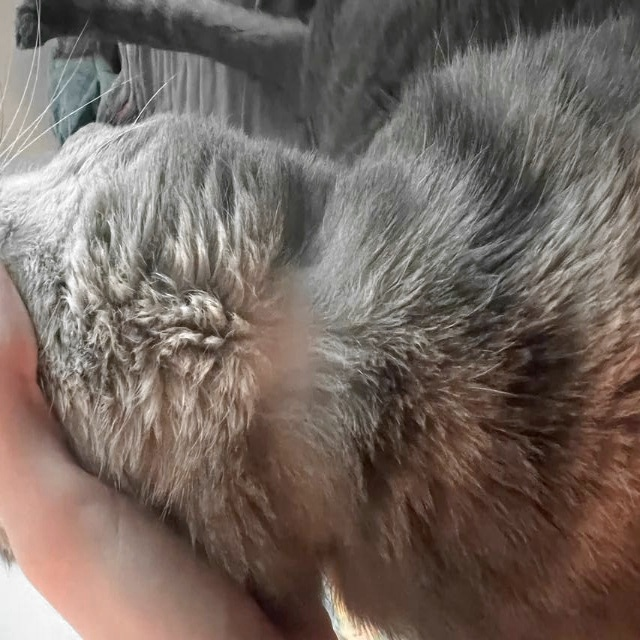hairloss: (249, 240, 319, 513)
